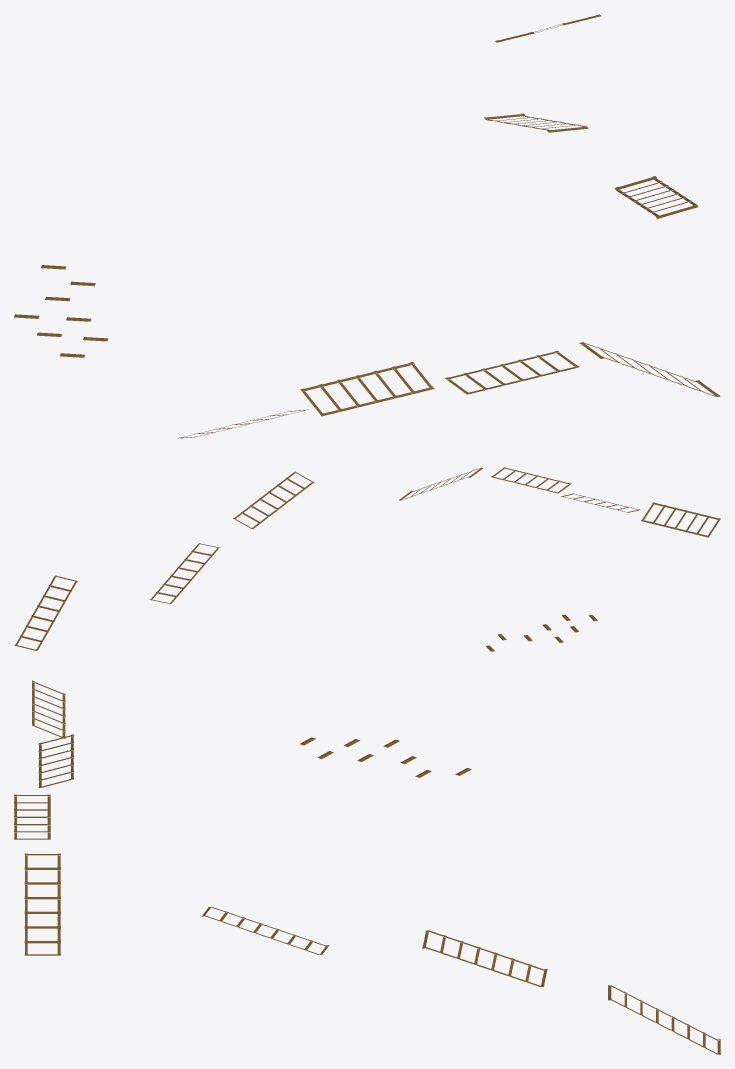
The model's file is Combined_ShadowCollisionPrefab.fbx.
The picture shows the model from 3 angles, top to bottom: view 1: azimuth 30°, elevation 25°; view 2: azimuth 150°, elevation 25°; view 3: azimuth 270°, elevation 25°; orthographic projection. The views are drawn at different scales.
Parts seen in each view (by area): view 1: Combined_ShadowCollisionPrefab; view 2: Combined_ShadowCollisionPrefab; view 3: Combined_ShadowCollisionPrefab.
Boxes of the visible parts, x1,y1,x2,y2 form: Combined_ShadowCollisionPrefab: (14, 14, 720, 438); Combined_ShadowCollisionPrefab: (14, 467, 720, 651); Combined_ShadowCollisionPrefab: (14, 680, 720, 1054).
Bounding box in the file's own units: 354 × 42.62 × 350.
